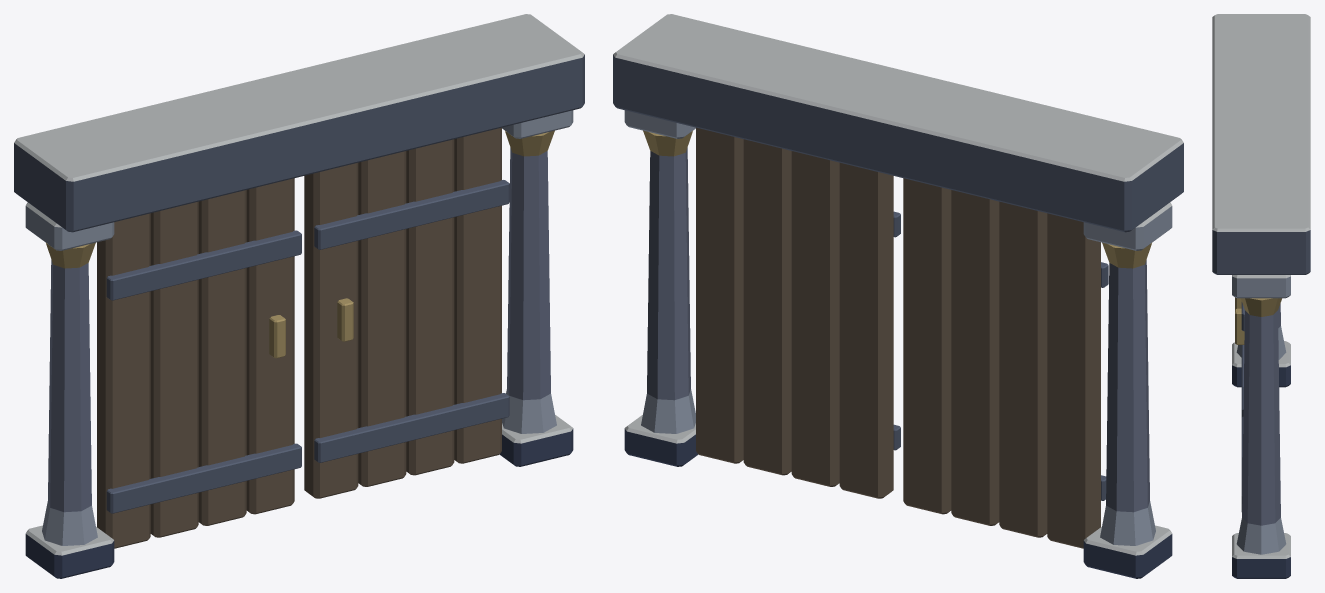
The model's file is doorway.glb.
The picture shows the model from 3 angles, left to right: view 1: azimuth 30°, elevation 25°; view 2: azimuth 150°, elevation 25°; view 3: azimuth 270°, elevation 25°; orthographic projection. The views are drawn at different scales.
Visible parts, largest first — view 1: doorway__body, doorway__leaf-right, doorway__leaf-left; view 2: doorway__body, doorway__leaf-right, doorway__leaf-left; view 3: doorway__body, doorway__leaf-right, doorway__leaf-left.
Part boxes in pixels (left/top/right/bottom): doorway__body: left=14, top=14, right=584, bottom=578; doorway__leaf-right: left=304, top=127, right=509, bottom=498; doorway__leaf-left: left=97, top=178, right=301, bottom=548; doorway__body: left=613, top=14, right=1183, bottom=578; doorway__leaf-right: left=696, top=127, right=900, bottom=498; doorway__leaf-left: left=903, top=178, right=1108, bottom=548; doorway__body: left=1212, top=14, right=1310, bottom=578; doorway__leaf-right: left=1235, top=302, right=1244, bottom=511; doorway__leaf-left: left=1235, top=297, right=1244, bottom=417.
Bounding box in the file's own units: 2.6 × 1.96 × 0.5.
